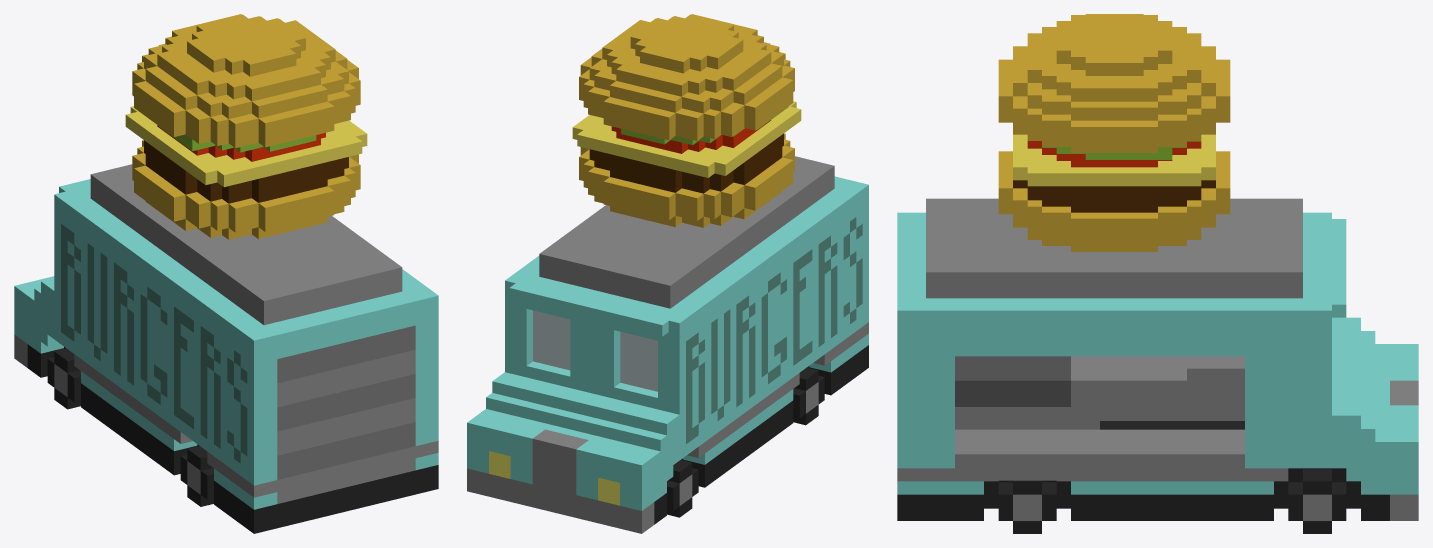
The model's file is food_truck.obj.
The picture shows the model from 3 angles, left to right: view 1: azimuth 30°, elevation 25°; view 2: azimuth 150°, elevation 25°; view 3: azimuth 270°, elevation 25°; orthographic projection. The views are drawn at different scales.
Bounding box in the file's own units: 18 × 34 × 36.
1 material, 1 textured.
